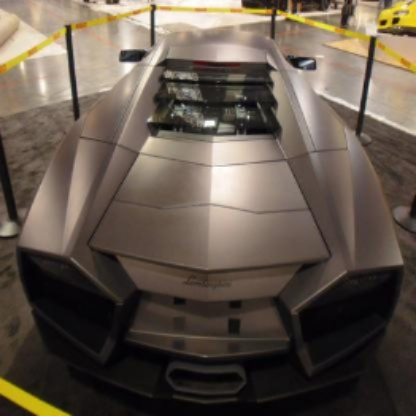Vehicle: (17, 28, 406, 413)
